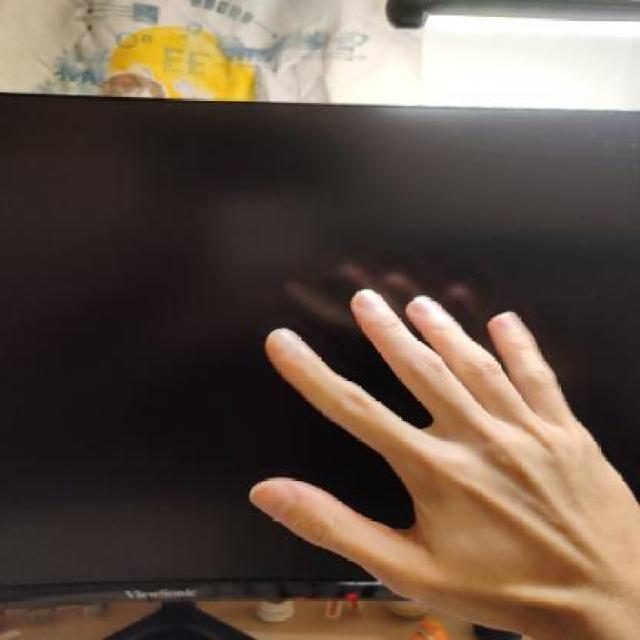bare_hand: (223, 271, 639, 638)
